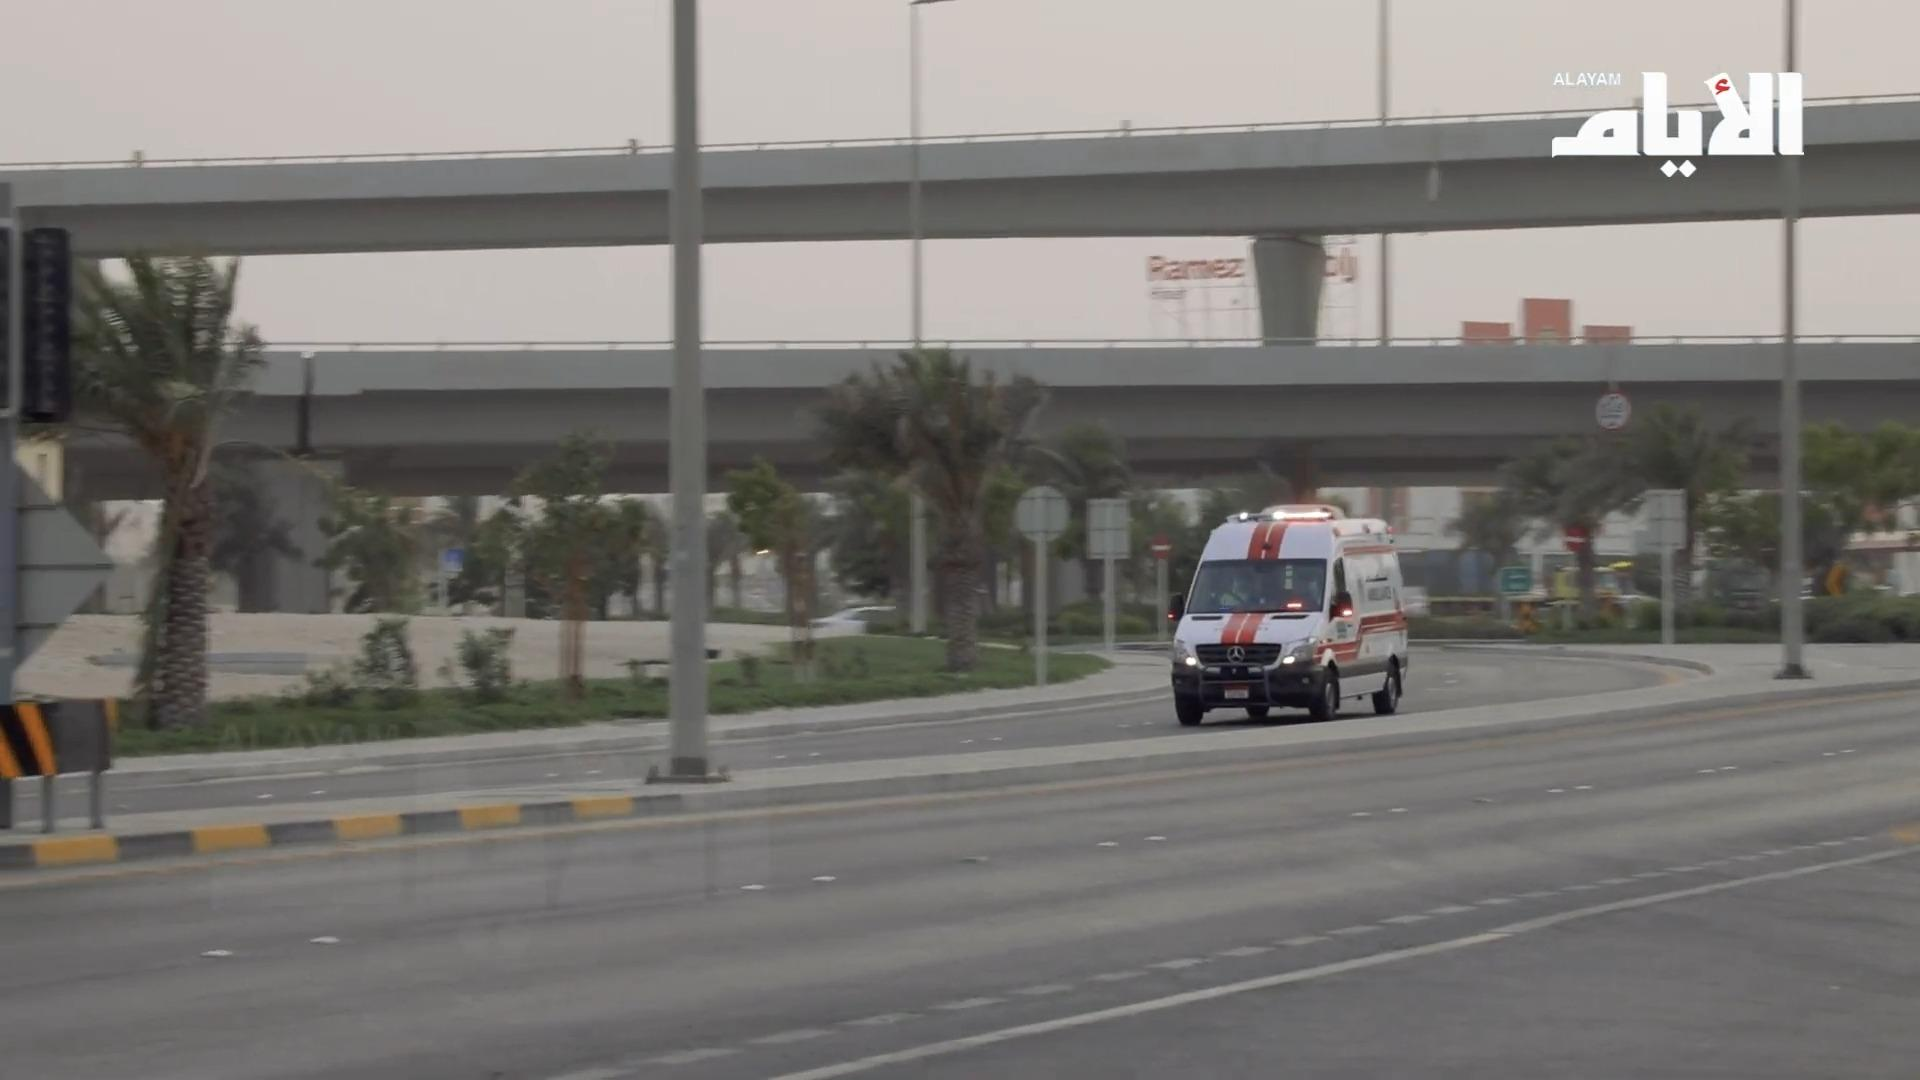ambulance_on: (1167, 505, 1408, 728)
